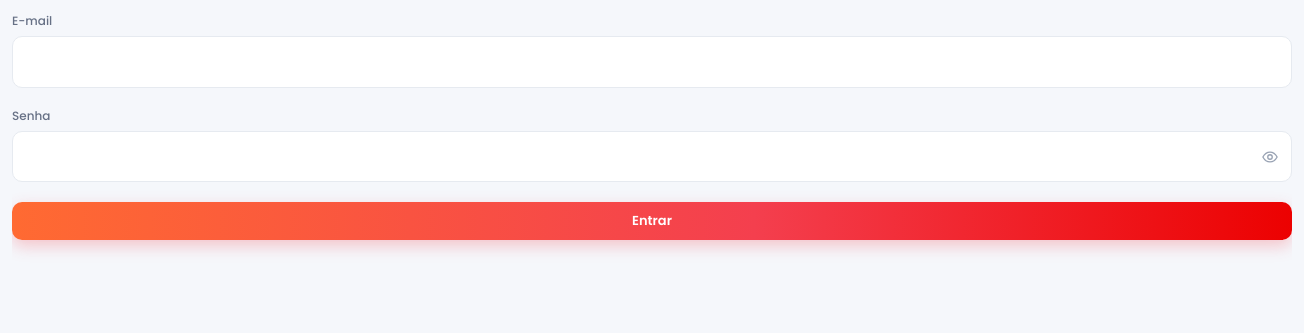
Test: LoginForm › shows an error instead of opening the dashboard without a renewed session
In the field labelled "E-mail": (652, 62) [12,36,1292,88], type "ana@globo.com"
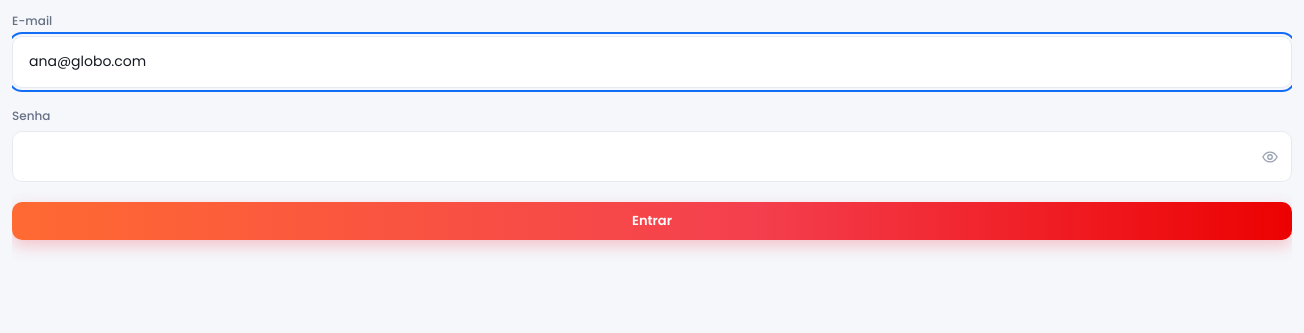
In the password field labelled "Senha": (652, 157) [12,131,1292,182], type "Senha123"
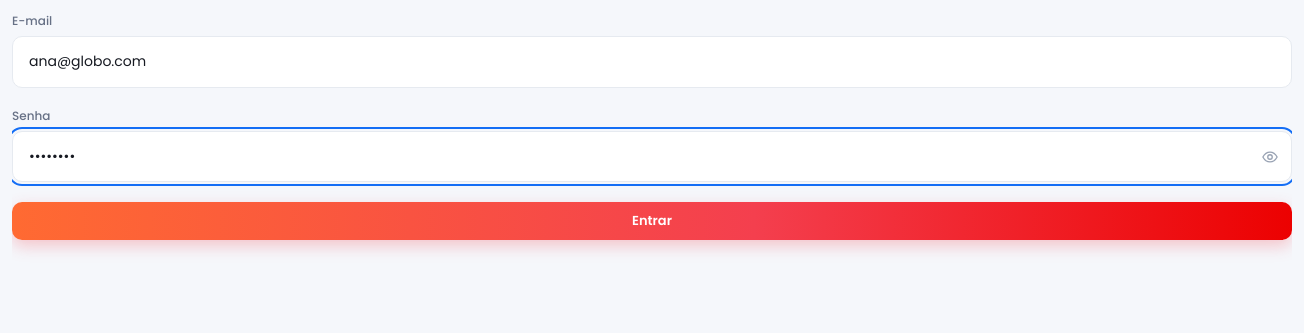
Click the button "Entrar": (652, 221) [12,202,1292,240]
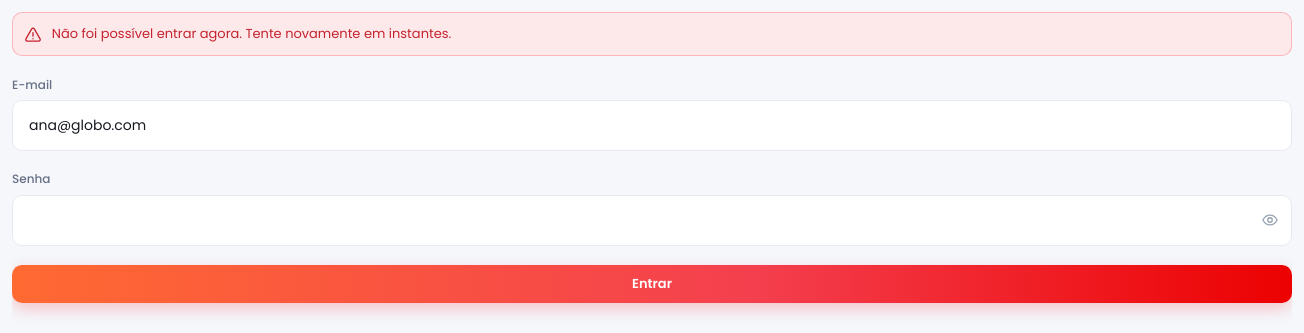
Expected: the text "Não foi possível entrar agora. Tente novamente em instantes." is shown, [52,24,451,44]
